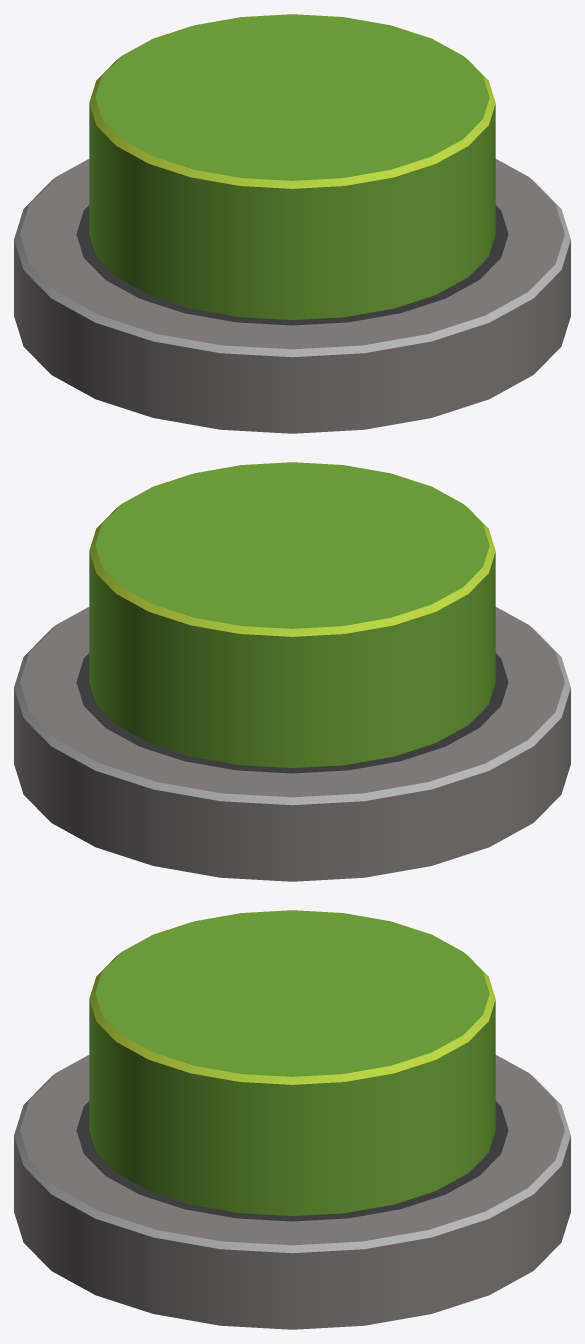
The model's file is button.FBX.
3 views of the same model, one above another, from view 1: azimuth 30°, elevation 25°; view 2: azimuth 150°, elevation 25°; view 3: azimuth 270°, elevation 25° (orthographic).
Visible parts, largest first — view 1: Cylinder004; view 2: Cylinder004; view 3: Cylinder004.
Boxes of the visible parts, left/top/right/bottom form: Cylinder004: left=14, top=14, right=570, bottom=433; Cylinder004: left=14, top=462, right=570, bottom=881; Cylinder004: left=14, top=910, right=570, bottom=1329.
Bounding box in the file's own units: 37.62 × 16.28 × 37.62.
Materials: 1 (1 with a texture image).
